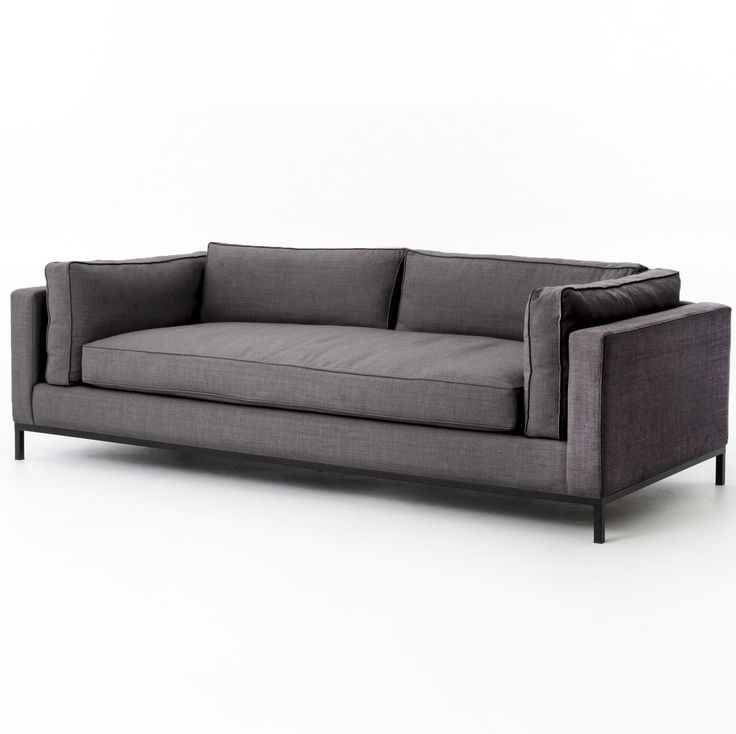chairs: (8, 235, 736, 547)
